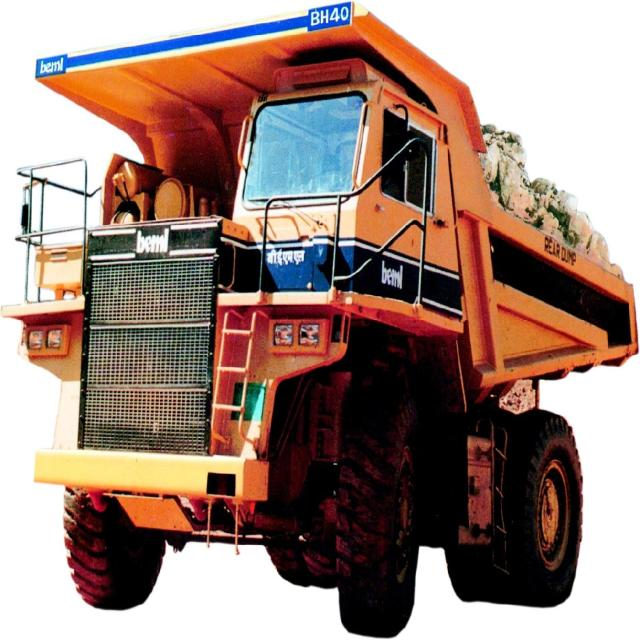dump_truck: (16, 33, 629, 624)
